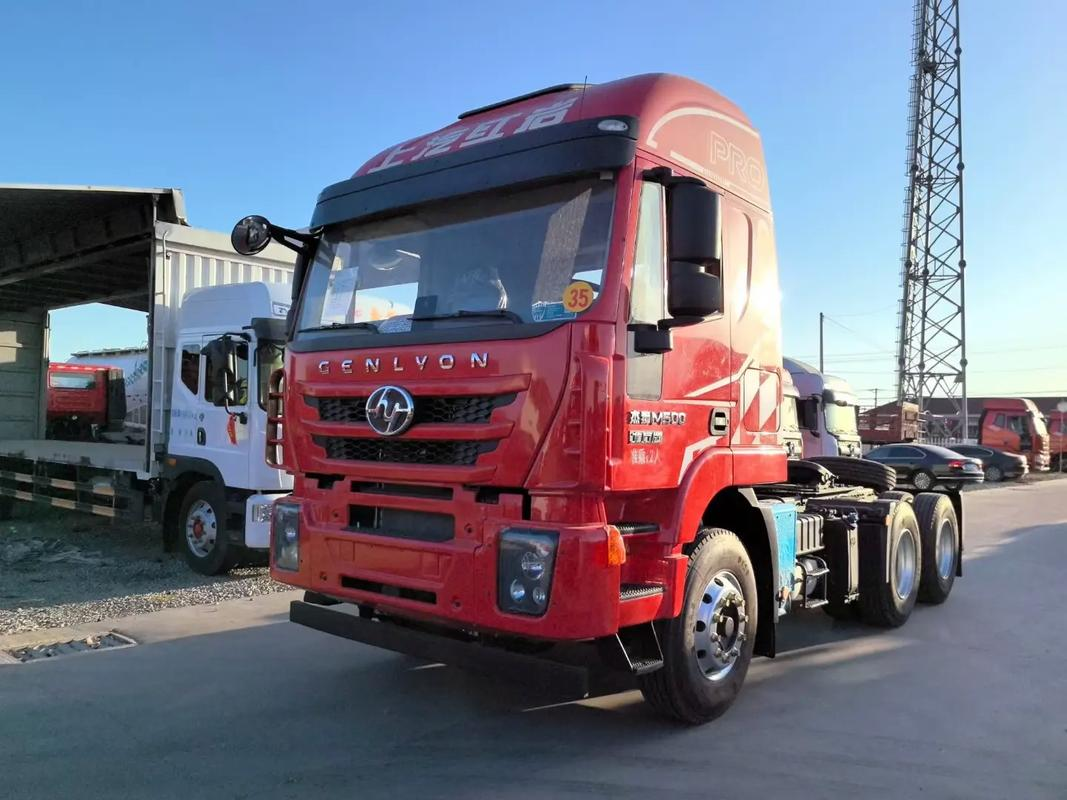卡车: (273, 75, 982, 732)
